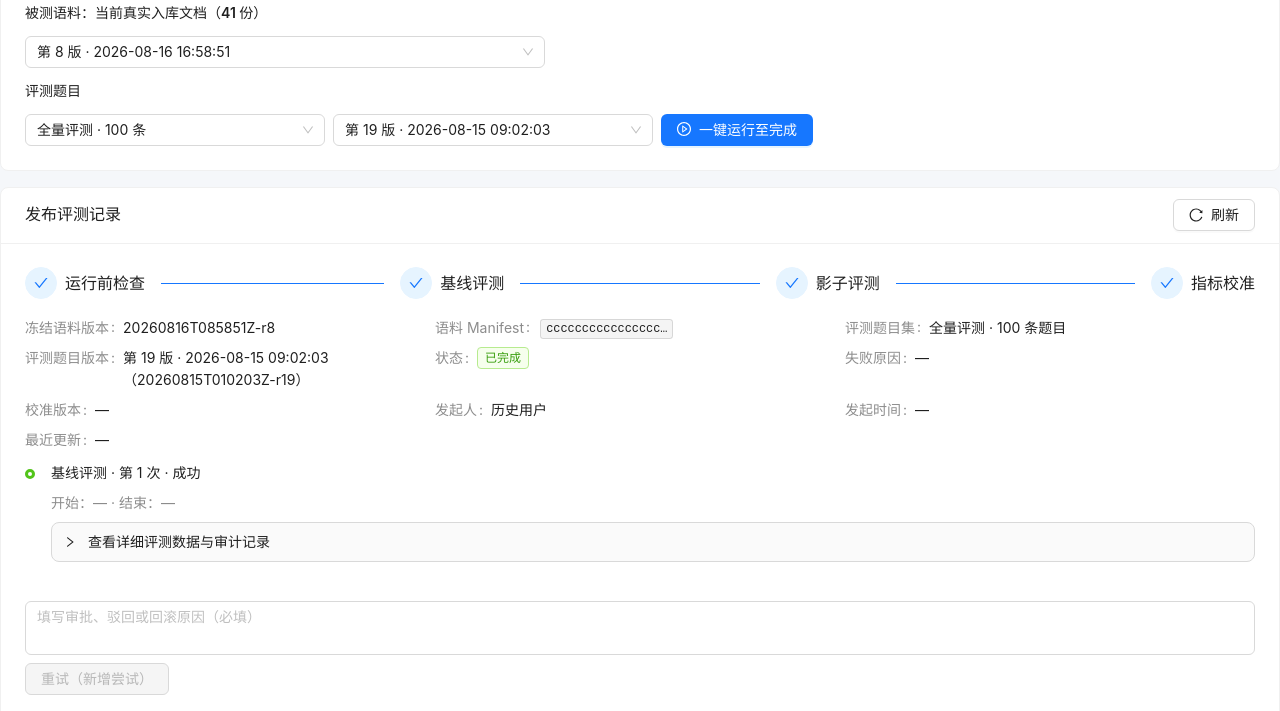
Test case: labels a historical attempt without diagnostics instead of showing zero
(page scrolled)
Expected: the text "本次运行无该诊断" is not shown
Click the button "查看详细评测数据与审计记录". click: (167, 542)
box: [64,533,270,550]
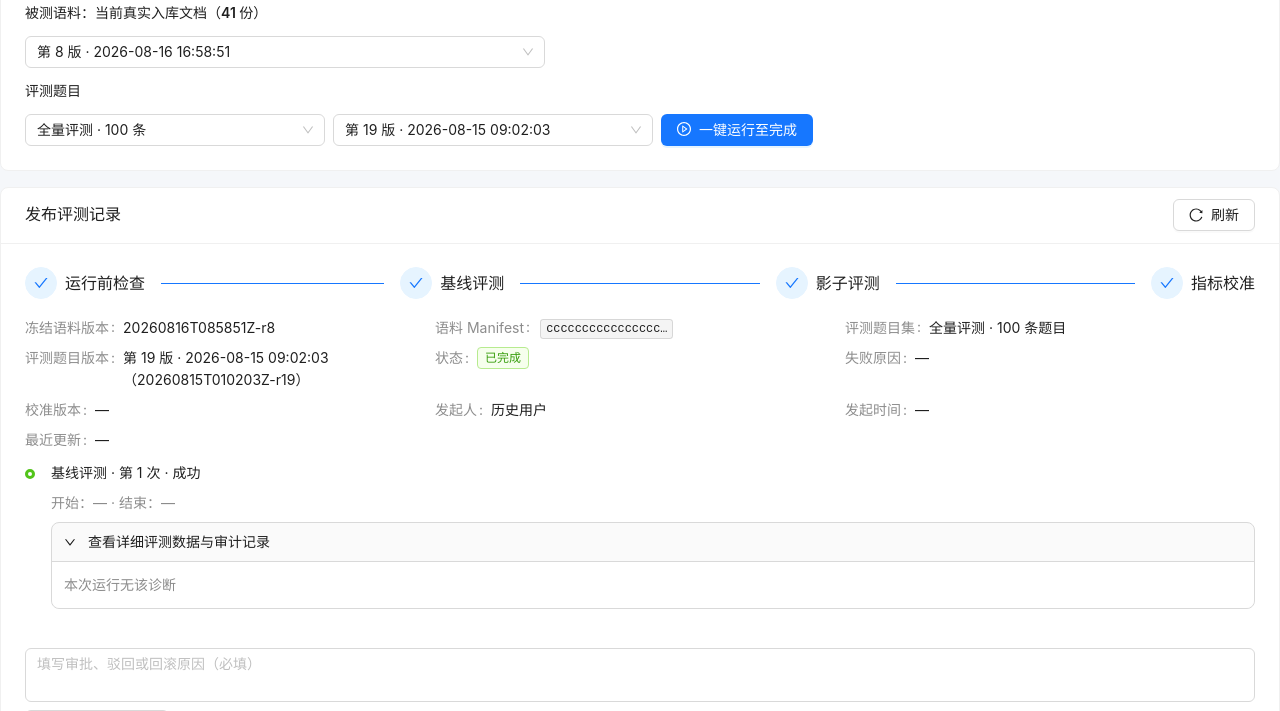
Now the text "本次运行无该诊断" is shown, box [64,576,176,593]
